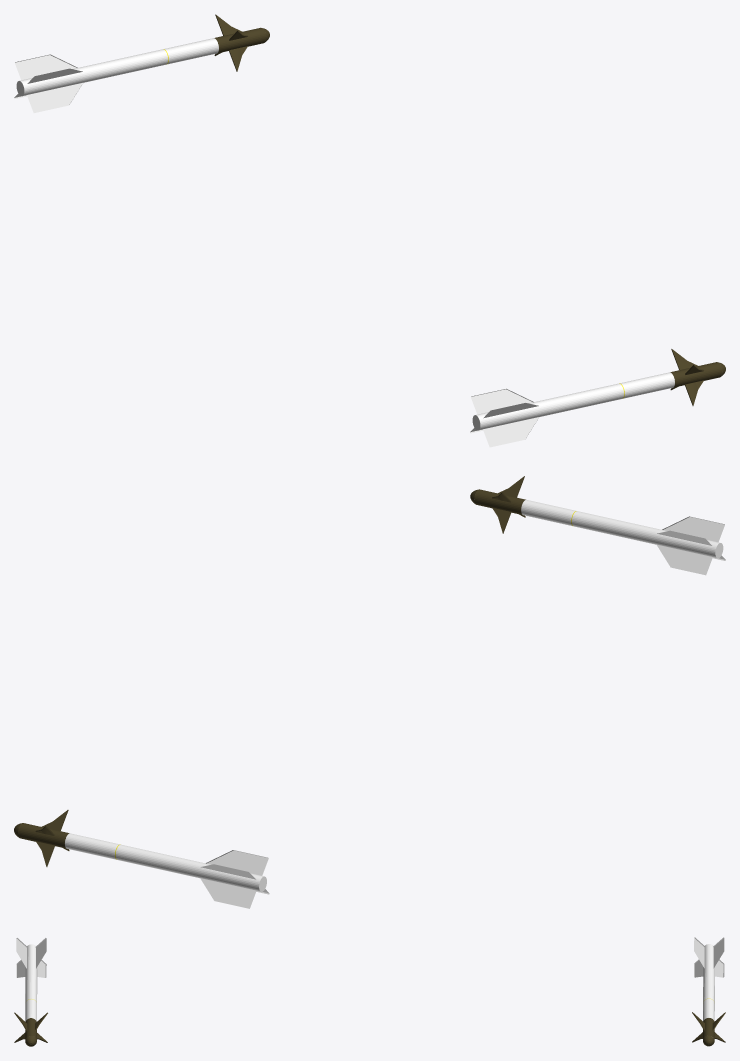
The model's file is f16caim9161.glb.
3 renders of one model, top to bottom at view 1: azimuth 30°, elevation 25°; view 2: azimuth 150°, elevation 25°; view 3: azimuth 270°, elevation 25°, orthographic. The views are drawn at different scales.
Visible parts, largest first — view 1: 円柱.005, 円柱.004; view 2: 円柱.005, 円柱.004; view 3: 円柱.005, 円柱.004.
Boxes of the visible parts, <box> form: 円柱.005: <box>470,349,725,447</box>; 円柱.004: <box>14,14,269,112</box>; 円柱.005: <box>470,476,725,575</box>; 円柱.004: <box>14,810,269,908</box>; 円柱.005: <box>14,938,47,1046</box>; 円柱.004: <box>692,937,725,1046</box>.
Size of the model in its own units: 3.38 by 0.5778 by 11.29.
Materials: 2 (2 with a texture image).
